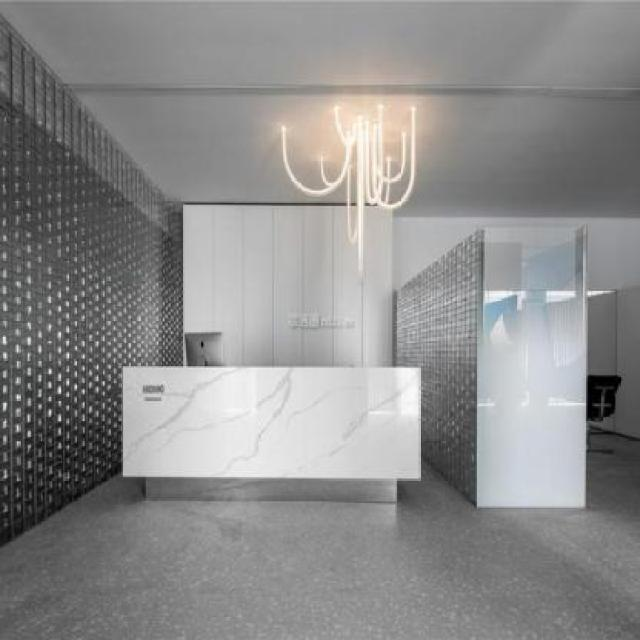frontdesk: (119, 326, 423, 514)
